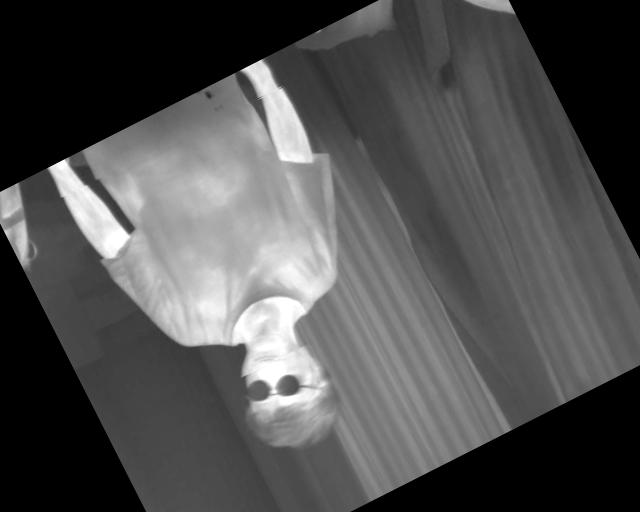face: (226, 170, 311, 279), (334, 202, 418, 308)
